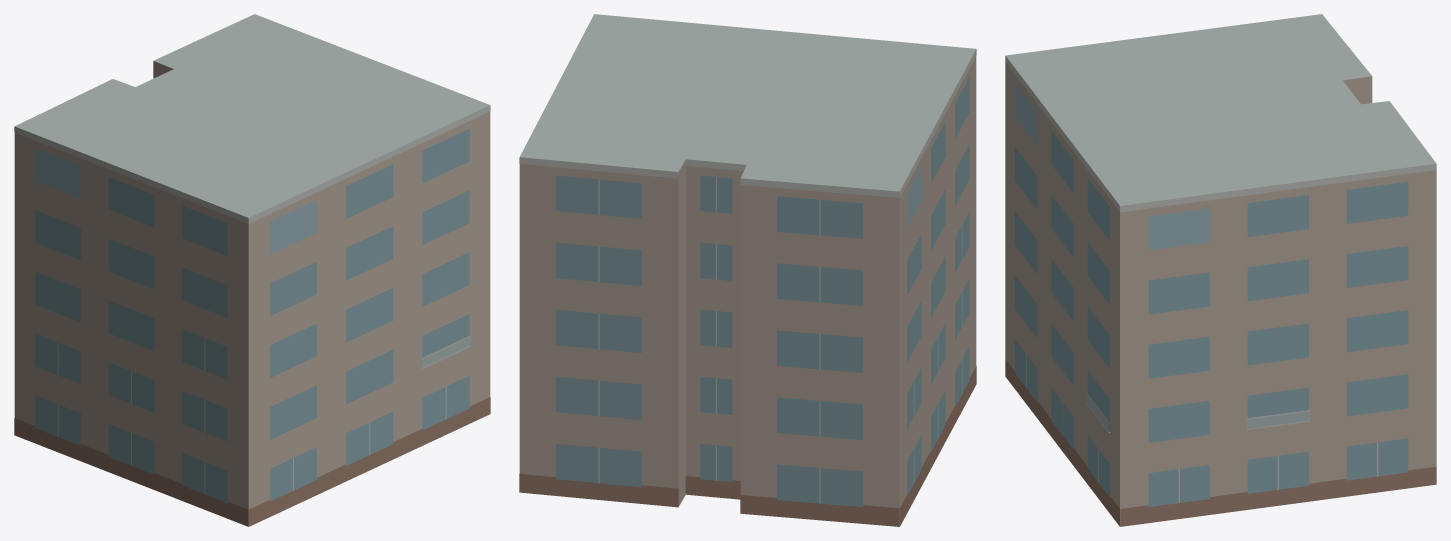
The model's file is survey-upis-33001828.glb.
3 renders of one model, left to right at view 1: azimuth 30°, elevation 25°; view 2: azimuth 150°, elevation 25°; view 3: azimuth 270°, elevation 25°, orthographic. The views are drawn at different scales.
Visible parts, largest first — view 1: survey-upis-33001828.tmp; view 2: survey-upis-33001828.tmp; view 3: survey-upis-33001828.tmp.
Boxes of the visible parts, x1,y1,x2,y2 form: survey-upis-33001828.tmp: (14, 14, 490, 526); survey-upis-33001828.tmp: (519, 14, 976, 526); survey-upis-33001828.tmp: (1005, 14, 1436, 526).
Bounding box in the file's own units: 15.92 × 12.4 × 15.11.
